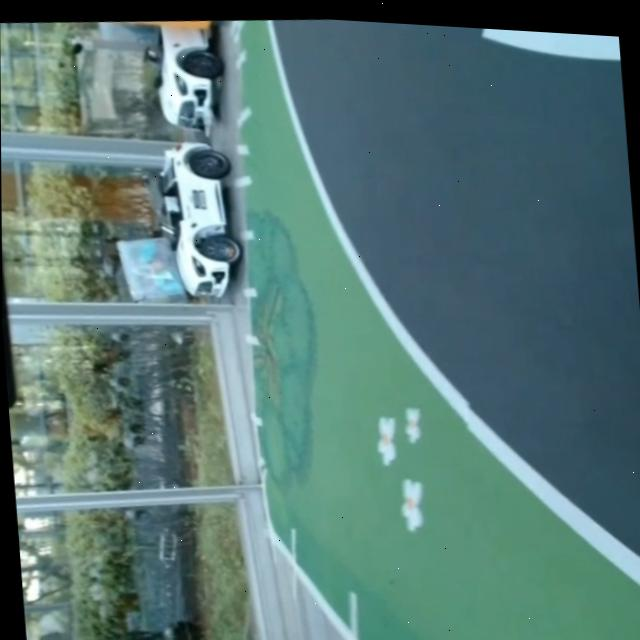traffic-light: (0, 22, 28, 417)
